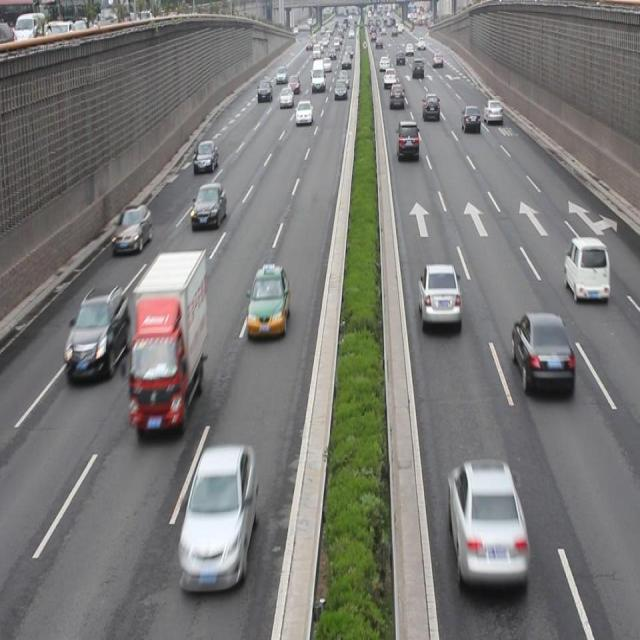bus: (128, 247, 206, 437)
car: (177, 442, 257, 588), (447, 458, 528, 584), (64, 286, 128, 379), (510, 311, 574, 398), (246, 264, 290, 339), (564, 236, 608, 300), (416, 264, 461, 326), (111, 201, 152, 254), (190, 182, 227, 229), (396, 121, 418, 162), (194, 140, 218, 172), (461, 104, 480, 133), (482, 98, 502, 124)
